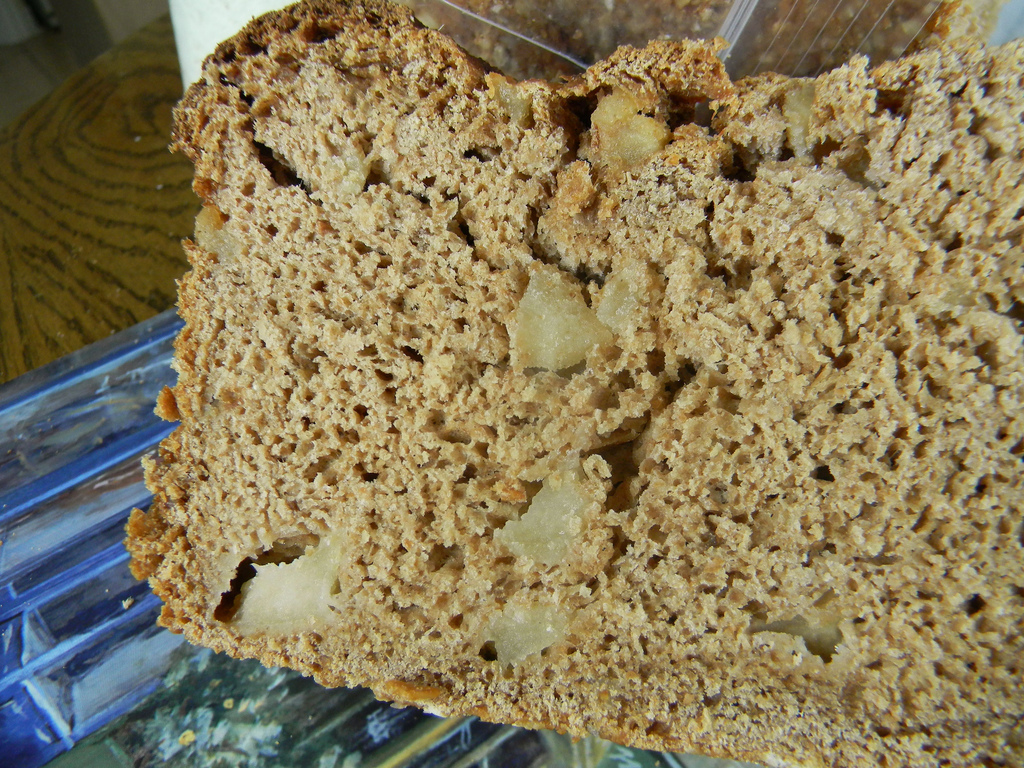slice of bread: (190, 4, 1024, 767)
